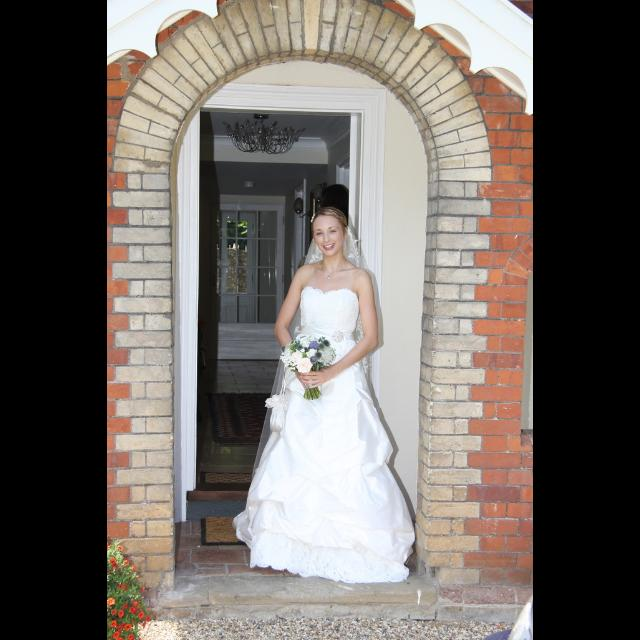Flower: (108, 546, 162, 640), (278, 330, 344, 378)
